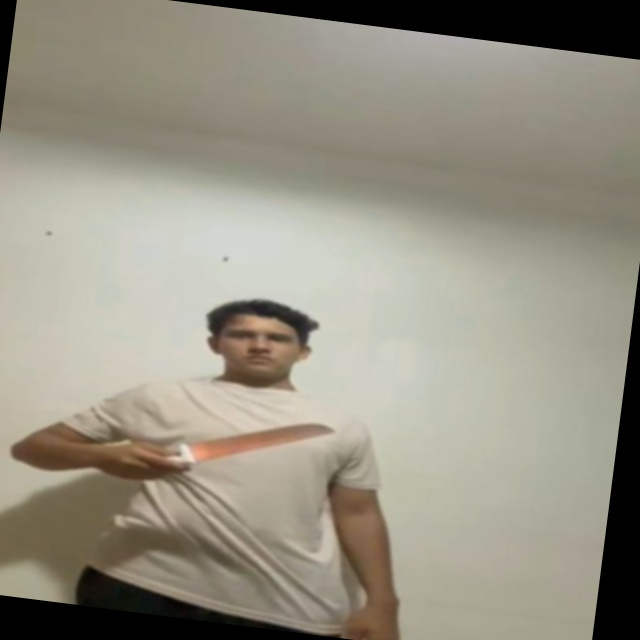Sharp-Object: (182, 405, 337, 474)
